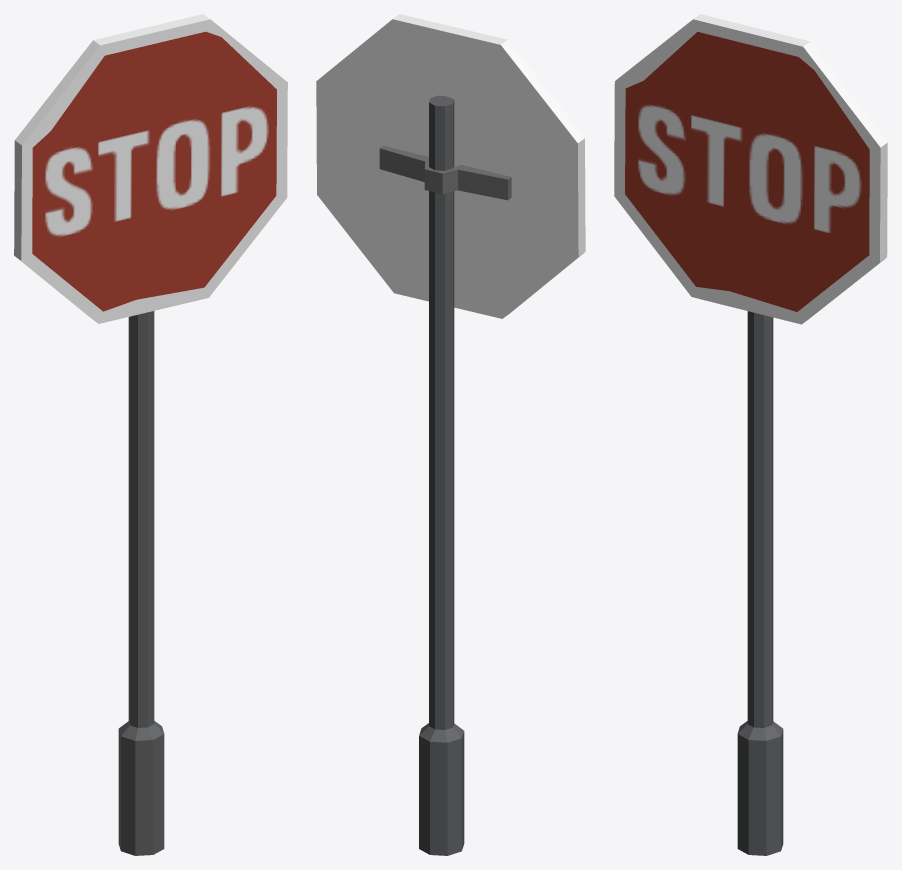
File: Stop Sign.fbx
3 views of the same model, side by side, from view 1: azimuth 30°, elevation 25°; view 2: azimuth 150°, elevation 25°; view 3: azimuth 330°, elevation 25° (orthographic).
Parts seen in each view (by area): view 1: Stop_Sign; view 2: Stop_Sign; view 3: Stop_Sign.
Boxes of the visible parts, box(x1,y1,x2,y2) form: Stop_Sign: box(14, 14, 287, 855); Stop_Sign: box(316, 14, 585, 855); Stop_Sign: box(614, 14, 887, 855).
Bounding box in the file's own units: 0.7691 × 2.27 × 0.1249.
